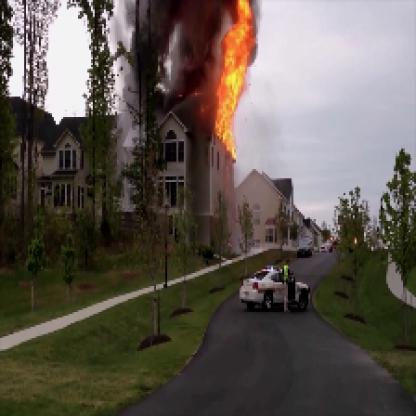Fire: (202, 2, 262, 158)
Smoke: (128, 2, 236, 134)
